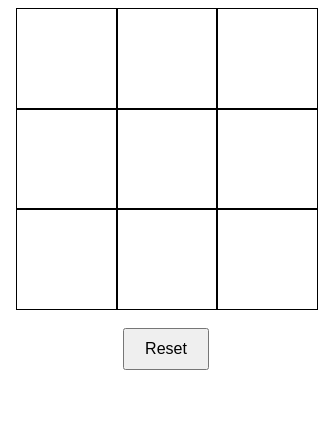
Tic tac toe game › should detect a win
This screenshot has width=335, height=436.
Click the 1st cell. click: (67, 59)
box: top-left (16, 8), bottom-right (118, 110)
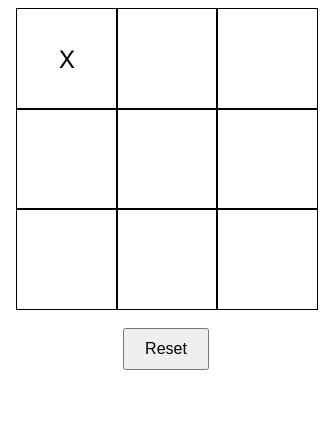
Click the 4th cell. click: (67, 159)
box: top-left (16, 108), bottom-right (118, 210)
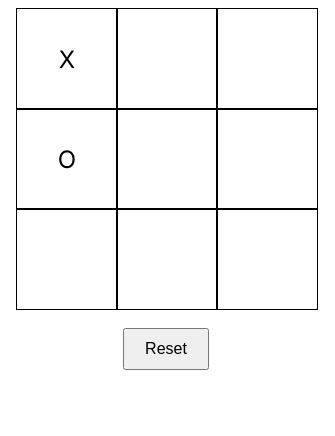
Click the 2nd cell. click: (167, 59)
box: top-left (116, 8), bottom-right (218, 110)
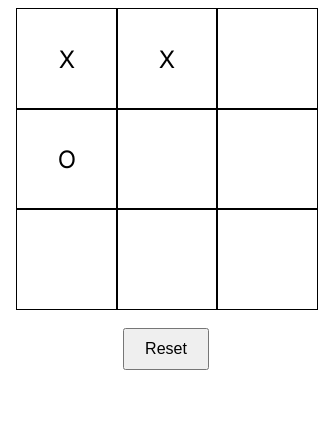
Click the 5th cell. click: (167, 159)
box: top-left (116, 108), bottom-right (218, 210)
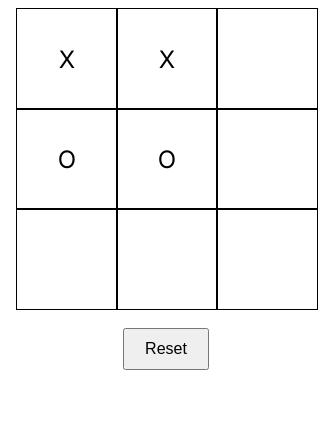
Click the 3rd cell. click: (267, 59)
box: top-left (216, 8), bottom-right (318, 110)
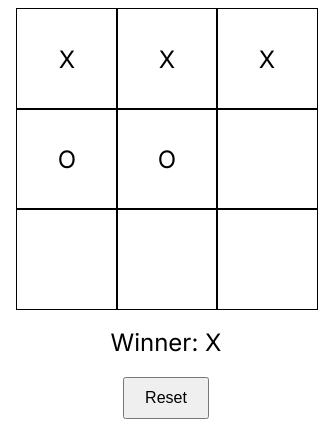
Now the text "Winner: X" is shown, box top-left (110, 328), bottom-right (221, 357)
